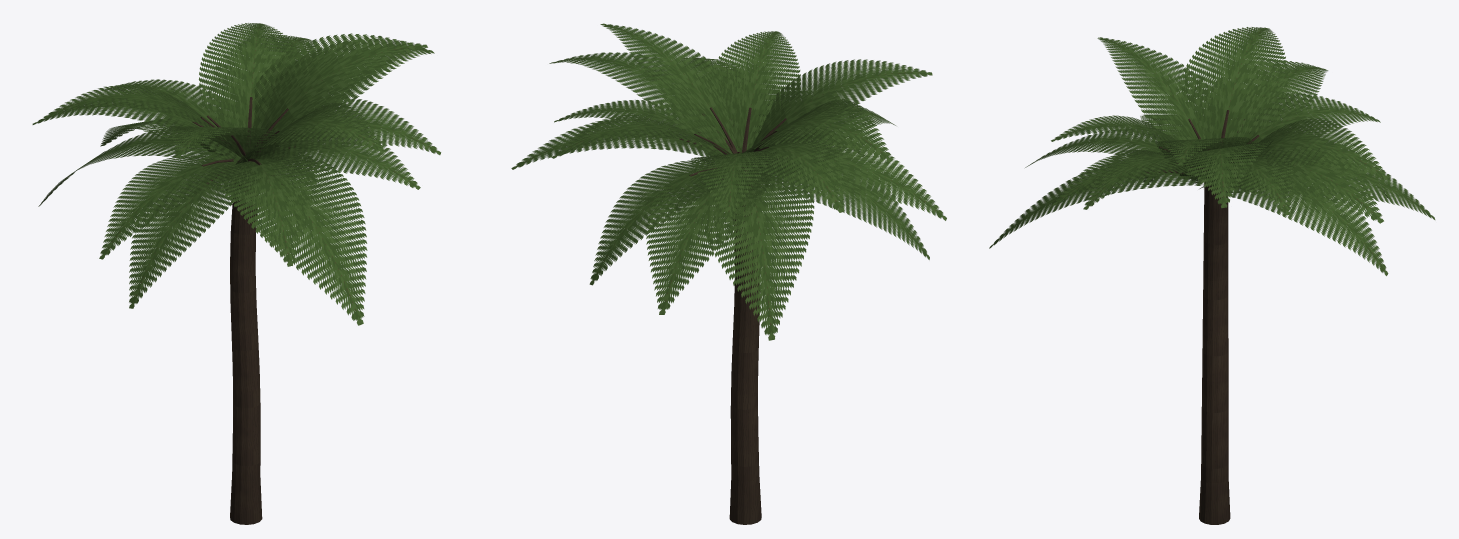
File: helecho-arborescente.glb
The picture shows the model from 3 angles, left to right: view 1: azimuth 30°, elevation 25°; view 2: azimuth 150°, elevation 25°; view 3: azimuth 270°, elevation 25°; orthographic projection. The views are drawn at different scales.
Parts seen in each view (by area): view 1: Helecho_Frondas, Helecho_Tronco; view 2: Helecho_Frondas, Helecho_Tronco; view 3: Helecho_Frondas, Helecho_Tronco.
Boxes of the visible parts, x1,y1,x2,y2 form: Helecho_Frondas: (32,23,440,325); Helecho_Tronco: (176,97,295,524); Helecho_Frondas: (511,23,946,340); Helecho_Tronco: (679,107,787,524); Helecho_Frondas: (989,27,1435,275); Helecho_Tronco: (1146,110,1259,524).
Bounding box in the file's own units: 4.86 × 5.53 × 5.21.
Materials: 2 (2 with a texture image).
